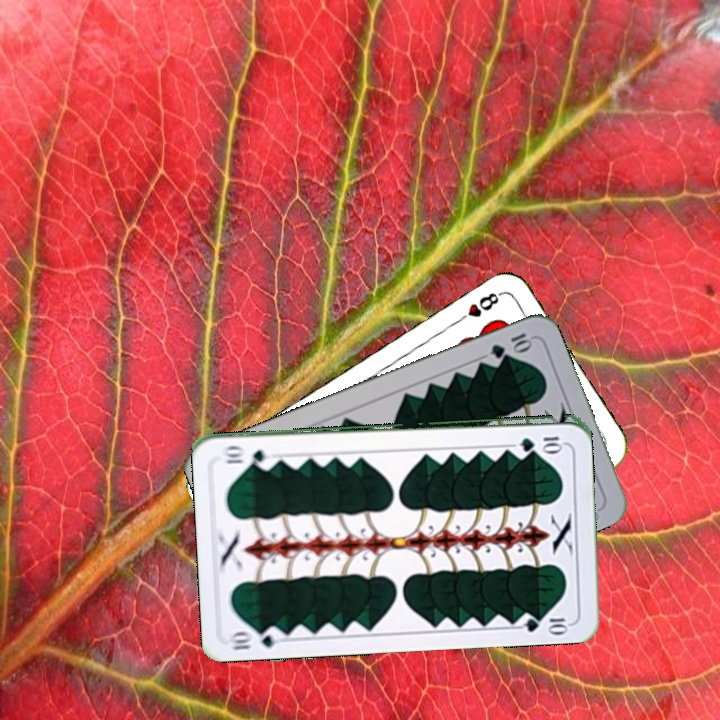G10: (226, 623, 286, 653), (486, 328, 535, 361), (516, 432, 566, 451)
H8: (452, 288, 505, 326)
